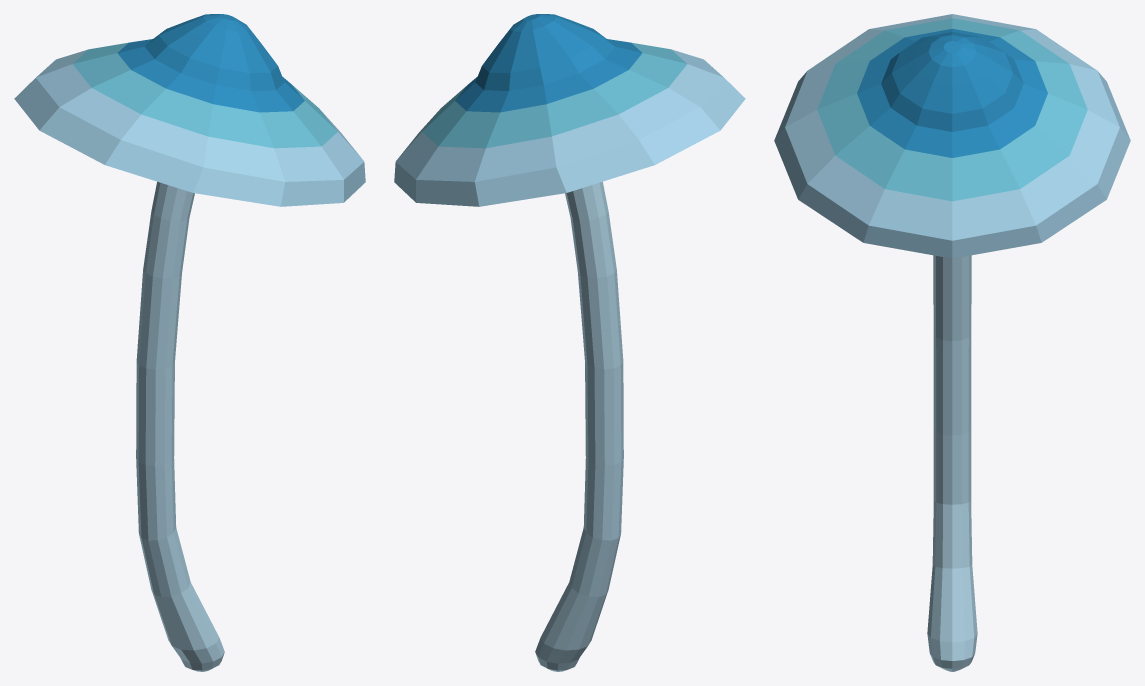
The model's file is mushroom3.fbx.
3 views of the same model, side by side, from view 1: azimuth 30°, elevation 25°; view 2: azimuth 150°, elevation 25°; view 3: azimuth 270°, elevation 25° (orthographic).
Visible parts, largest first — view 1: Mushroom; view 2: Mushroom; view 3: Mushroom.
Boxes of the visible parts, x1,y1,x2,y2 form: Mushroom: (14,14,365,671); Mushroom: (394,14,745,671); Mushroom: (774,14,1130,671).
Bounding box in the file's own units: 4.32 × 8.89 × 4.5.
